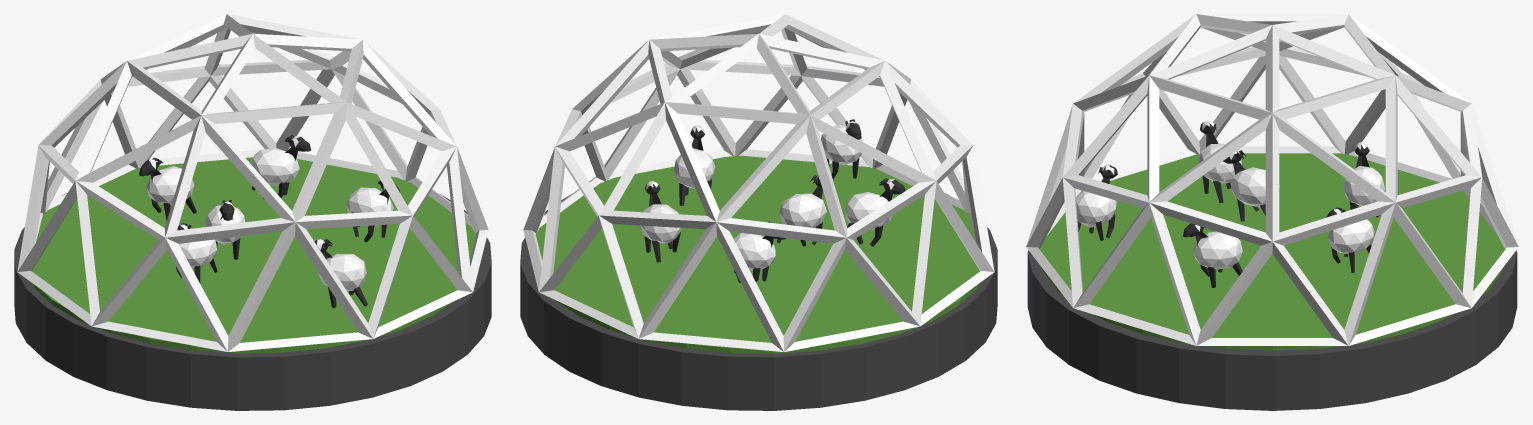
Rendered from MarsScienceLabAnimalFarm_2.fbx.
3 renders of one model, left to right at view 1: azimuth 30°, elevation 25°; view 2: azimuth 150°, elevation 25°; view 3: azimuth 270°, elevation 25°, orthographic. The views are drawn at different scales.
Parts seen in each view (by area): view 1: Icosphere.142; view 2: Icosphere.142; view 3: Icosphere.142.
Part boxes in pixels (left/top/right/bottom): Icosphere.142: left=14, top=14, right=491, bottom=410; Icosphere.142: left=520, top=14, right=997, bottom=410; Icosphere.142: left=1026, top=14, right=1518, bottom=410.
Bounding box in the file's own units: 368 × 235 × 371.
